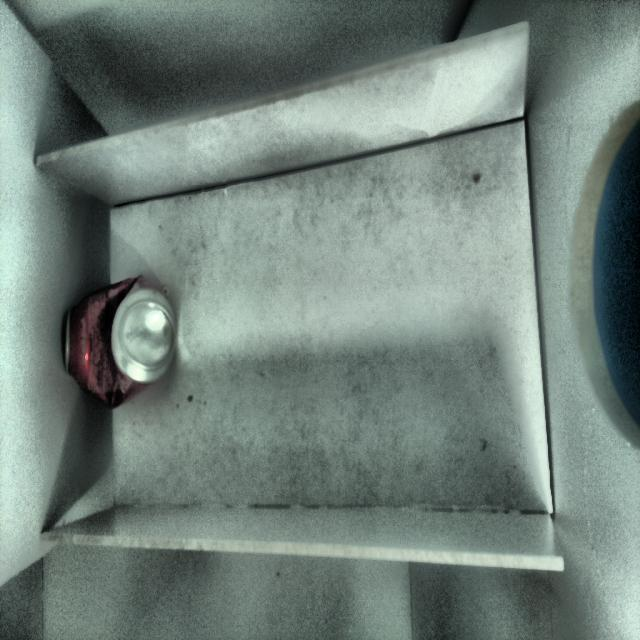Cans: (67, 276, 182, 411)
